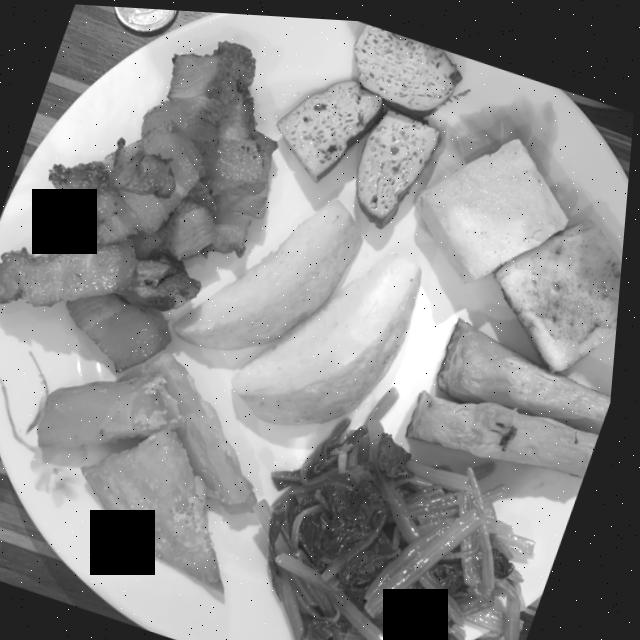coin: (114, 5, 177, 29)
creamy tofu -without sauce-: (418, 131, 626, 362)
firm tofu: (279, 19, 462, 222)
grilled pork: (0, 37, 279, 365)
guava -sliced-: (179, 194, 425, 420)
mustard greens: (264, 383, 546, 640)
pumpkin: (413, 312, 617, 469)
